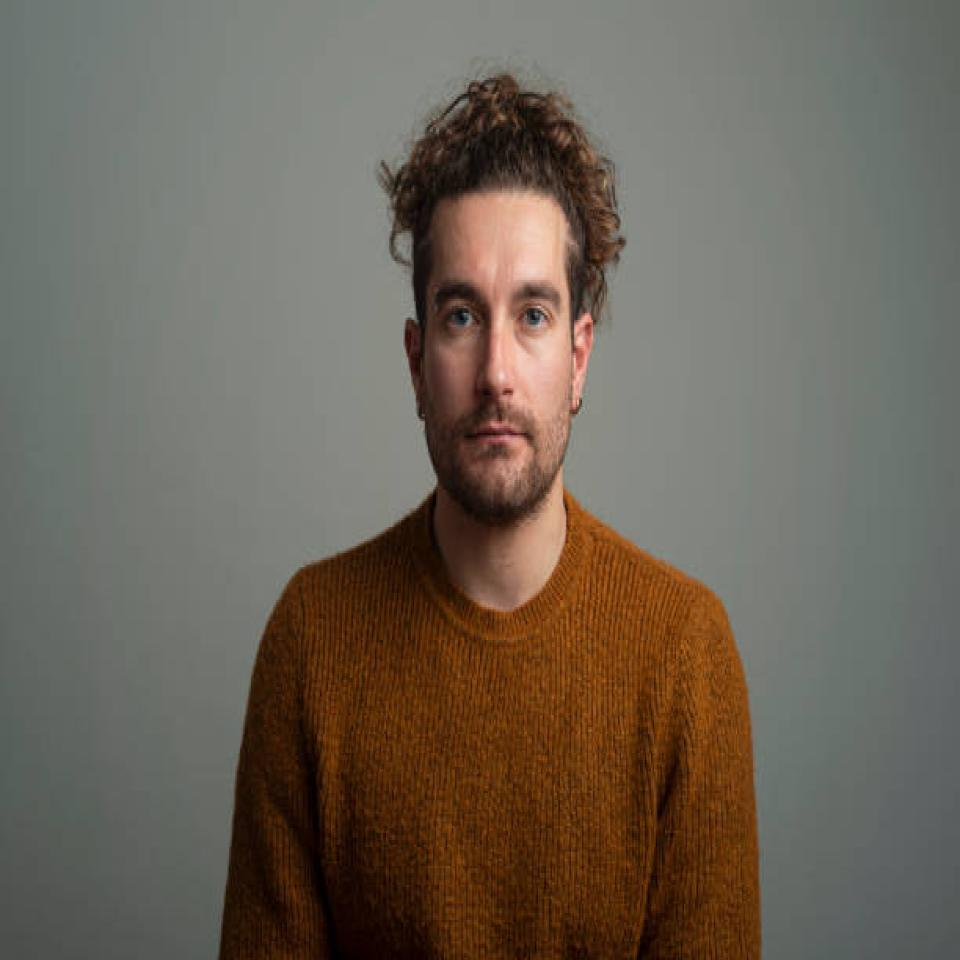Sadness: (427, 197, 572, 518)
